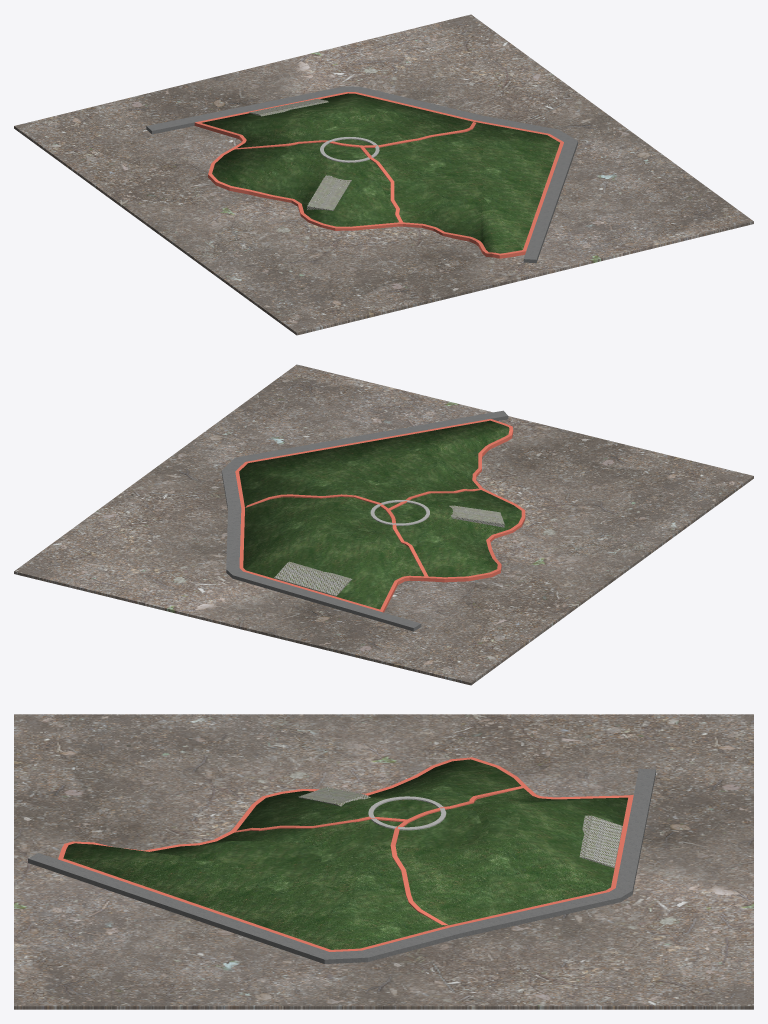
Rendered from hill.dae.
3 renders of one model, top to bottom at view 1: azimuth 30°, elevation 25°; view 2: azimuth 150°, elevation 25°; view 3: azimuth 270°, elevation 25°, orthographic. The views are drawn at different scales.
Parts seen in each view (by area): view 1: 地面, 土丘, 道路, 外环, 内线, 边坡-2; view 2: 地面, 土丘, 道路, 外环, 边坡-1, 内线, 边坡-2; view 3: 地面, 土丘, 道路, 外环, 内线, 边坡-1, 边坡-2, 圆顶.
Boxes of the visible parts, x1,y1,x2,y2 form: 地面: (14, 14, 753, 335); 土丘: (202, 93, 559, 253); 道路: (146, 86, 577, 263); 外环: (194, 92, 563, 258); 内线: (234, 122, 476, 222); 边坡-2: (307, 175, 351, 210); 地面: (14, 364, 753, 685); 土丘: (239, 420, 521, 609); 道路: (221, 410, 508, 631); 外环: (235, 419, 525, 612); 边坡-1: (274, 561, 352, 596); 内线: (245, 488, 480, 576); 边坡-2: (449, 505, 504, 527); 地面: (14, 714, 753, 1009); 土丘: (63, 759, 627, 949); 道路: (28, 768, 655, 963); 外环: (58, 757, 633, 951); 内线: (234, 786, 522, 925); 边坡-1: (579, 815, 622, 868); 边坡-2: (298, 787, 370, 806); 圆顶: (368, 796, 446, 830).
Size of the model in its own units: 280 by 300 by 16.8.
